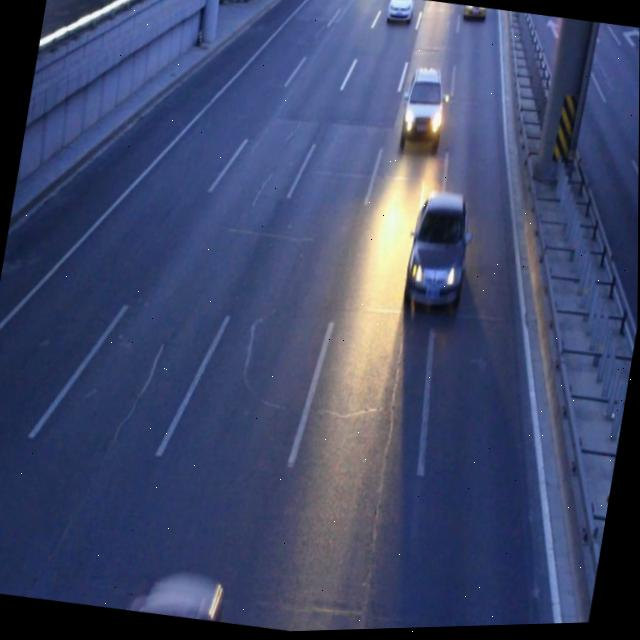car: (399, 190, 475, 312), (113, 558, 233, 627), (396, 66, 450, 149), (385, 0, 415, 28)
